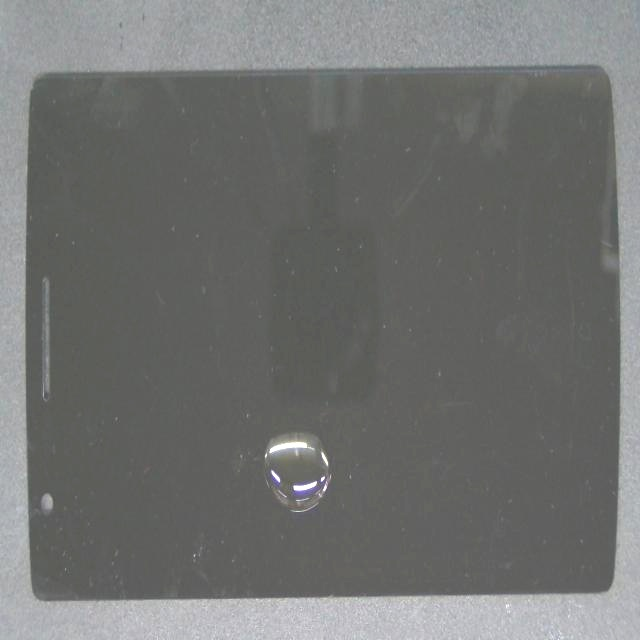oil: (173, 244, 496, 640)
